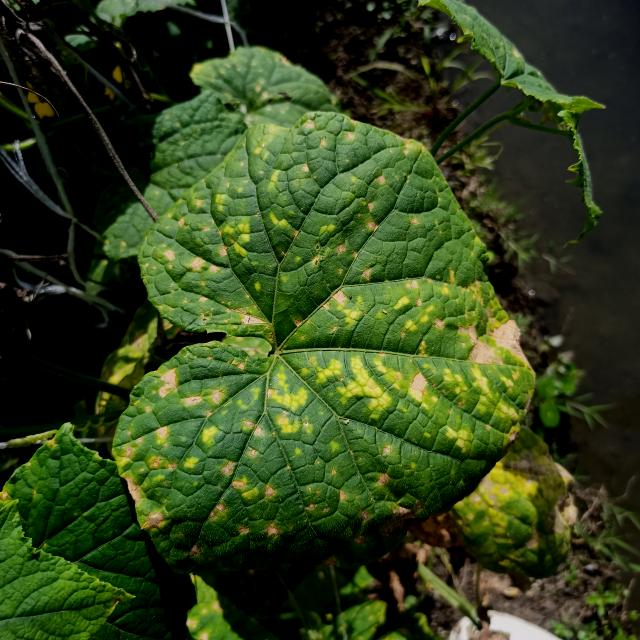disease_cucumber: (122, 144, 527, 572)
